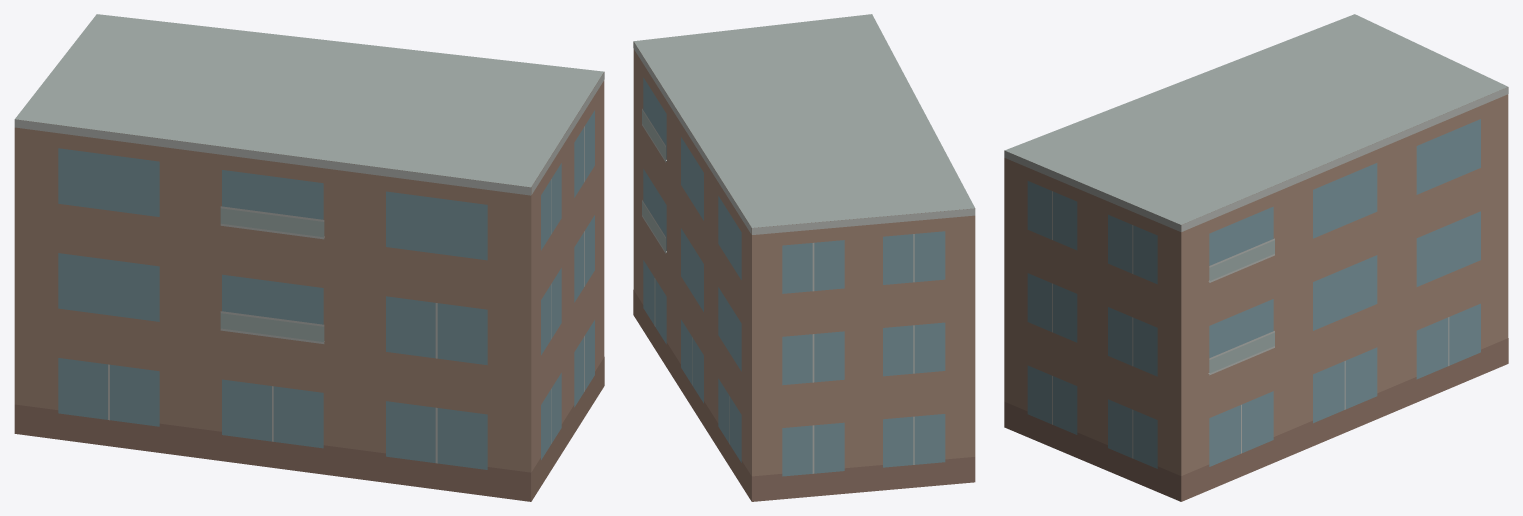
File: survey-upis-32972429.glb
3 views of the same model, side by side, from view 1: azimuth 30°, elevation 25°; view 2: azimuth 150°, elevation 25°; view 3: azimuth 270°, elevation 25° (orthographic). The views are drawn at different scales.
Parts seen in each view (by area): view 1: survey-upis-32972429.tmp; view 2: survey-upis-32972429.tmp; view 3: survey-upis-32972429.tmp.
Boxes of the visible parts, x1=… form: survey-upis-32972429.tmp: x1=14, y1=14, x2=604, y2=501; survey-upis-32972429.tmp: x1=633, y1=14, x2=975, y2=501; survey-upis-32972429.tmp: x1=1004, y1=14, x2=1508, y2=501.
Bounding box in the file's own units: 15.21 × 9.3 × 15.35.
